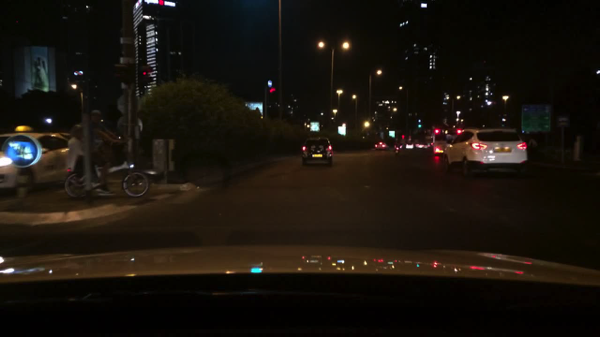bike: (63, 140, 148, 198), (393, 144, 400, 154)
car: (0, 132, 90, 197), (441, 129, 529, 180), (300, 136, 332, 167), (431, 129, 457, 155), (374, 141, 389, 151), (415, 142, 428, 149), (404, 141, 413, 150)
rider: (86, 108, 127, 197), (66, 121, 110, 194), (392, 137, 402, 151)
traffic light: (141, 66, 147, 80)
traffic sign: (521, 104, 550, 132), (115, 91, 141, 114), (116, 116, 142, 138), (554, 116, 567, 126), (120, 57, 134, 65), (308, 121, 318, 132), (120, 36, 133, 44), (337, 126, 344, 135), (266, 81, 272, 86)
